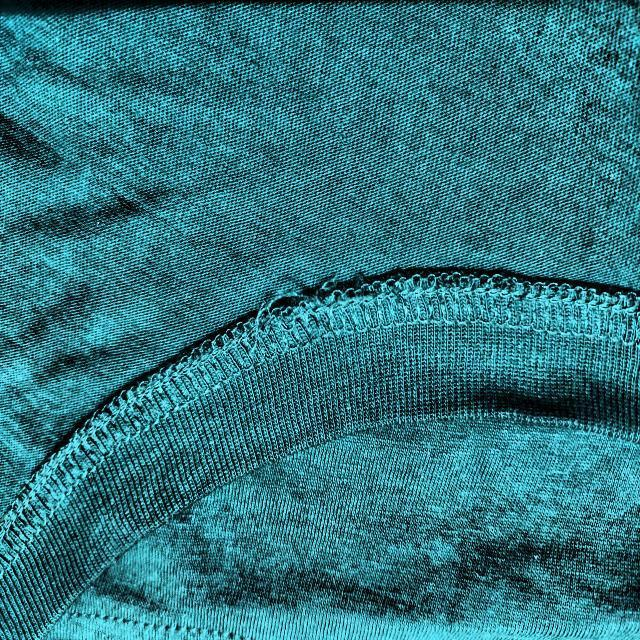gray stitch: (217, 248, 417, 383)
